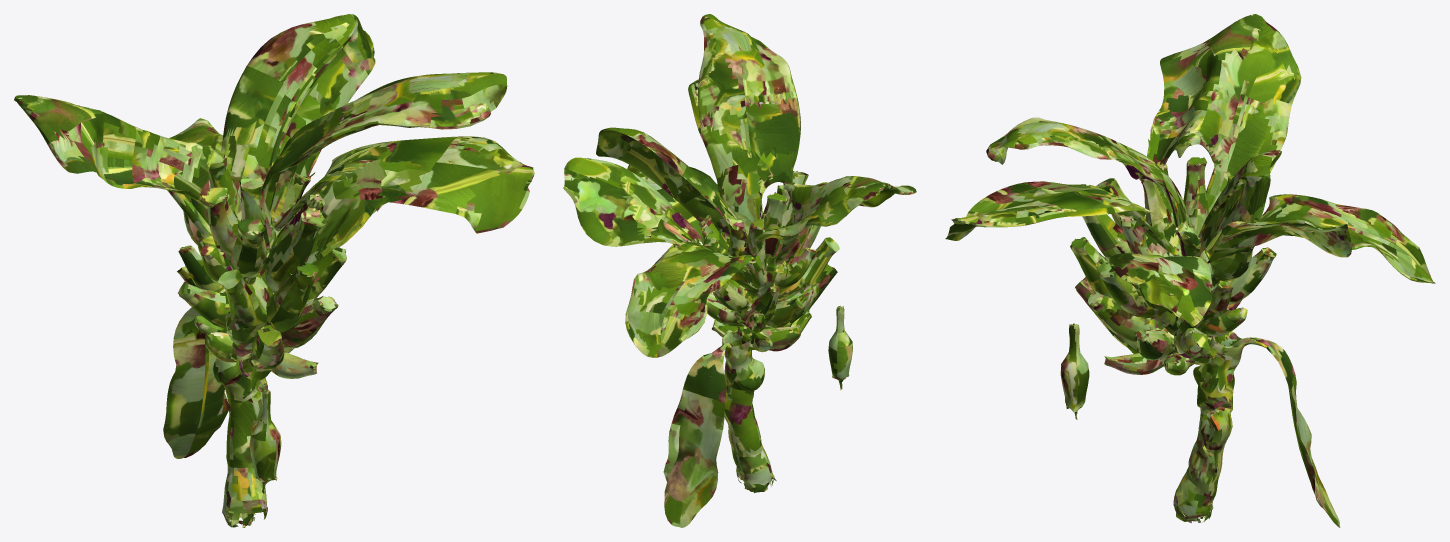
Rendered from veg_tropical_banana_01.obj.
The picture shows the model from 3 angles, left to right: view 1: azimuth 30°, elevation 25°; view 2: azimuth 150°, elevation 25°; view 3: azimuth 270°, elevation 25°; orthographic projection. The views are drawn at different scales.
Parts seen in each view (by area): view 1: veg_tropical_banana_01; view 2: veg_tropical_banana_01; view 3: veg_tropical_banana_01.
Boxes of the visible parts, x1,y1,x2,y2 form: veg_tropical_banana_01: (14,14,534,527); veg_tropical_banana_01: (563,14,916,527); veg_tropical_banana_01: (945,14,1435,527).
Size of the model in its own units: 2.95 by 3.54 by 3.5.
Materials: 1 (1 with a texture image).
